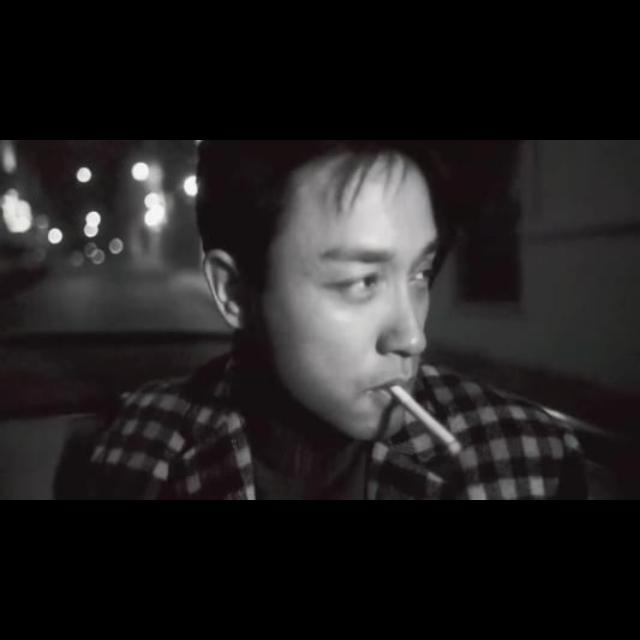rokok: (378, 375, 478, 469)
